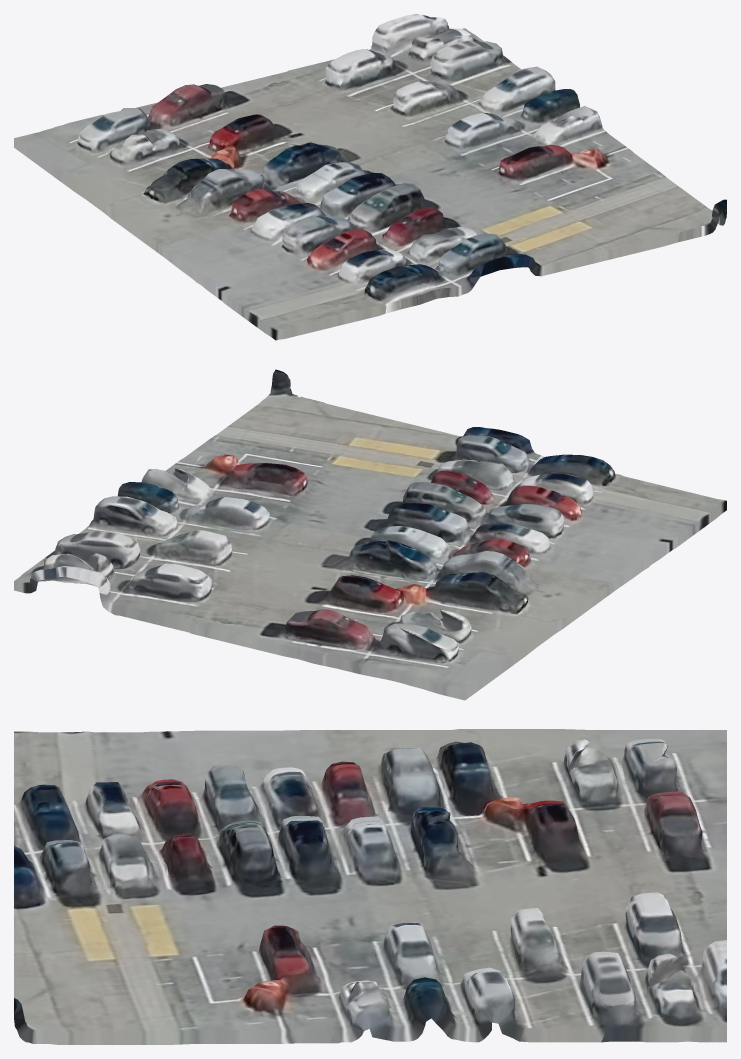
Rendered from z20-167772-405200-h0-yup-uvflip-v3-world.glb.
The picture shows the model from 3 angles, top to bottom: view 1: azimuth 30°, elevation 25°; view 2: azimuth 150°, elevation 25°; view 3: azimuth 270°, elevation 25°; orthographic projection. The views are drawn at different scales.
Bounding box in the file's own units: 30.16 × 2.52 × 30.32.
1 material, 1 textured.
